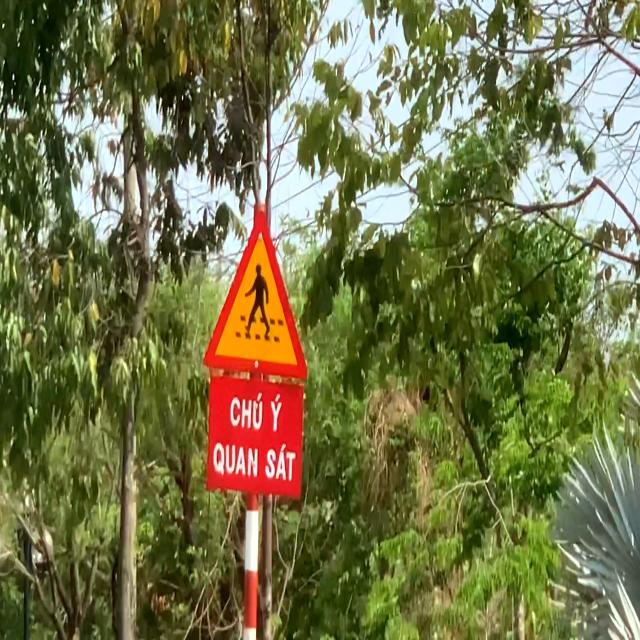W.224: (201, 208, 309, 382)
